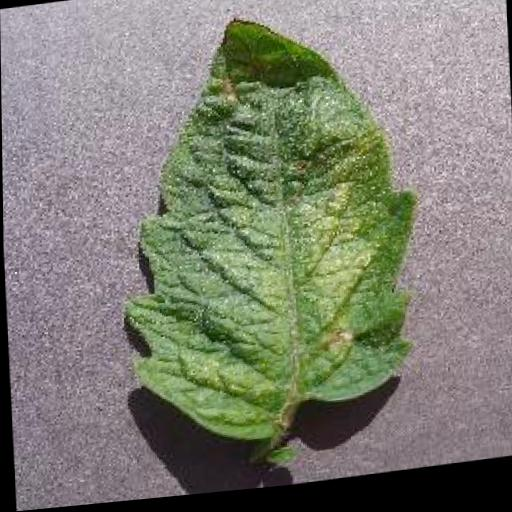Spider Mites: (106, 0, 429, 466)
